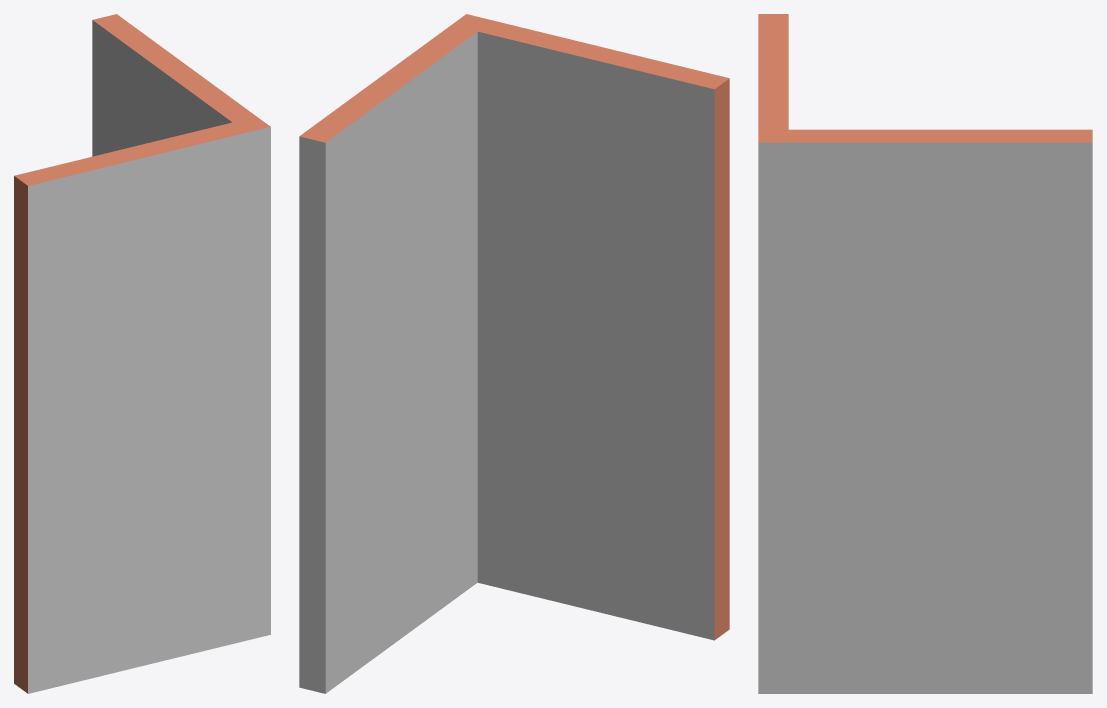
The model's file is Corner_Wall.fbx.
3 renders of one model, left to right at view 1: azimuth 30°, elevation 25°; view 2: azimuth 150°, elevation 25°; view 3: azimuth 270°, elevation 25°, orthographic. The views are drawn at different scales.
Parts seen in each view (by area): view 1: Corner_Wall; view 2: Corner_Wall; view 3: Corner_Wall.
Part boxes in pixels (<box>): Corner_Wall: <box>14,14,270,693</box>; Corner_Wall: <box>299,14,729,693</box>; Corner_Wall: <box>758,14,1092,693</box>.
Bounding box in the file's own units: 100 × 200 × 110.
